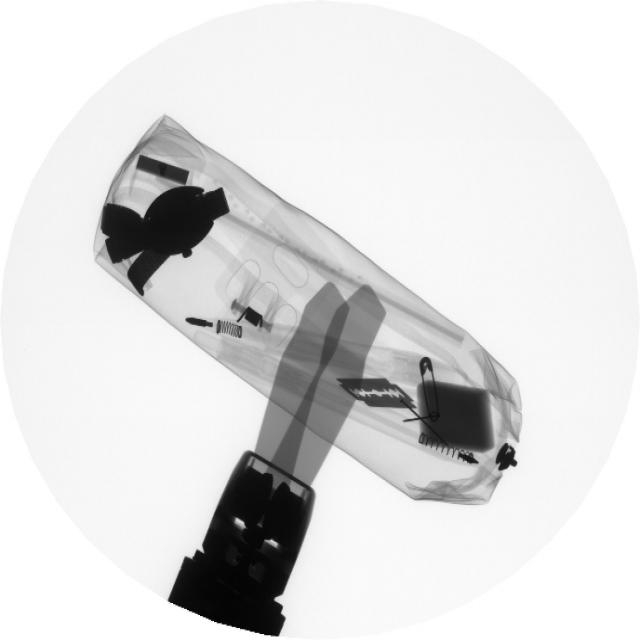BLADE: (333, 372, 426, 419)
